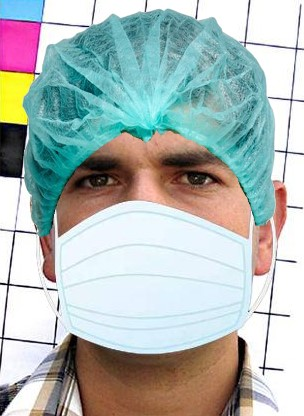with_mask_and_cap: (30, 15, 282, 355)
